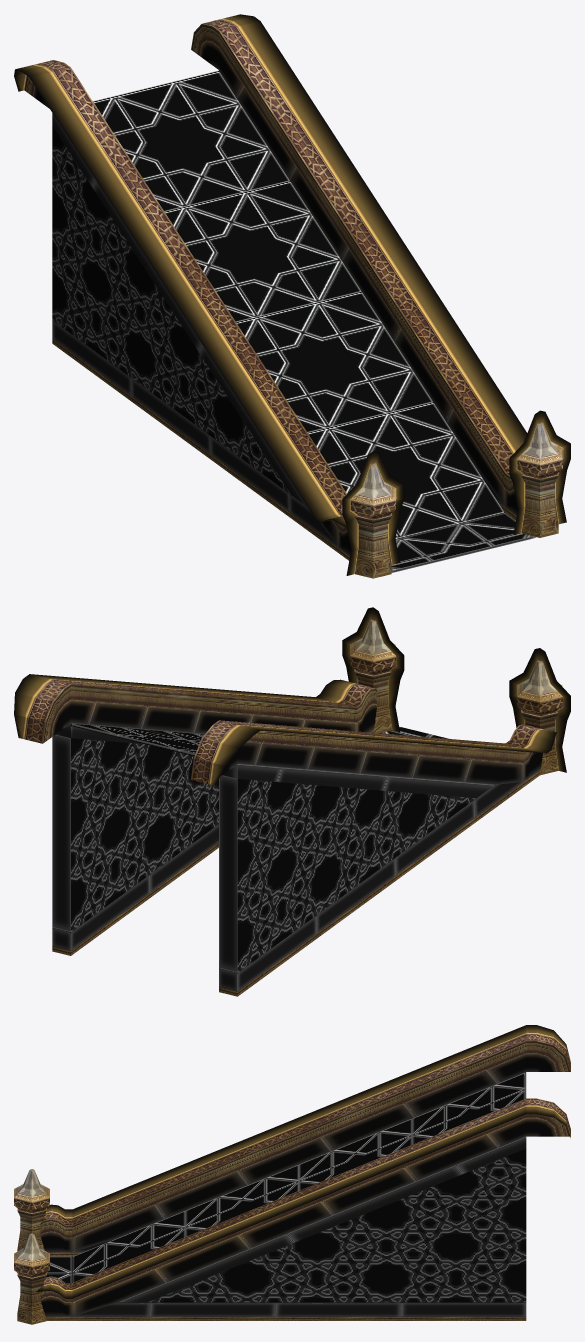
Rendered from NPStaircase.gltf.
3 views of the same model, one above another, from view 1: azimuth 30°, elevation 25°; view 2: azimuth 150°, elevation 25°; view 3: azimuth 270°, elevation 25° (orthographic). The views are drawn at different scales.
Visible parts, largest first — view 1: StairRailing, StairSlope; view 2: StairRailing, StairSlope; view 3: StairRailing, StairSlope.
Boxes of the visible parts, bbox=[...] form: StairRailing: bbox=[14, 14, 570, 578]; StairSlope: bbox=[93, 70, 504, 538]; StairRailing: bbox=[14, 607, 570, 996]; StairSlope: bbox=[71, 723, 204, 755]; StairRailing: bbox=[14, 1025, 570, 1324]; StairSlope: bbox=[72, 1072, 526, 1282].
Bounding box in the file's own units: 6.24 × 7.08 × 16.42.
6 materials, 6 textured.
